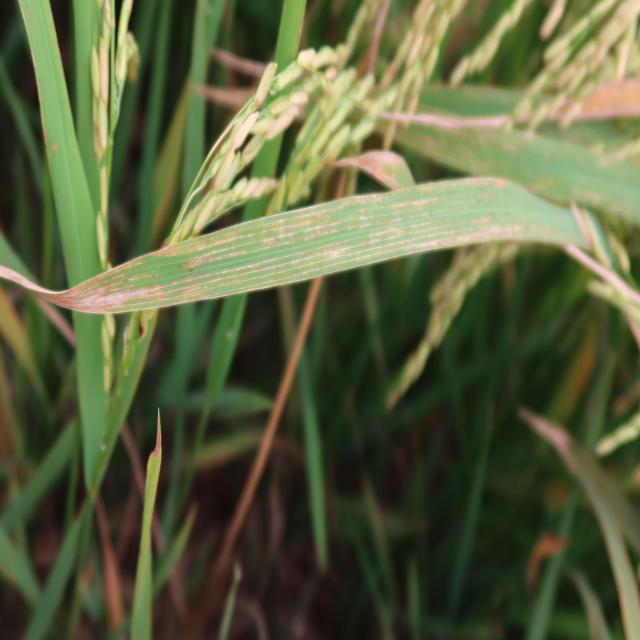Dom soc vi khuan: (49, 274, 168, 315), (154, 236, 238, 258), (190, 245, 248, 268), (198, 231, 256, 250), (218, 258, 277, 275), (261, 232, 296, 251), (304, 221, 341, 233), (320, 246, 350, 259), (409, 240, 438, 249), (369, 237, 381, 244)
